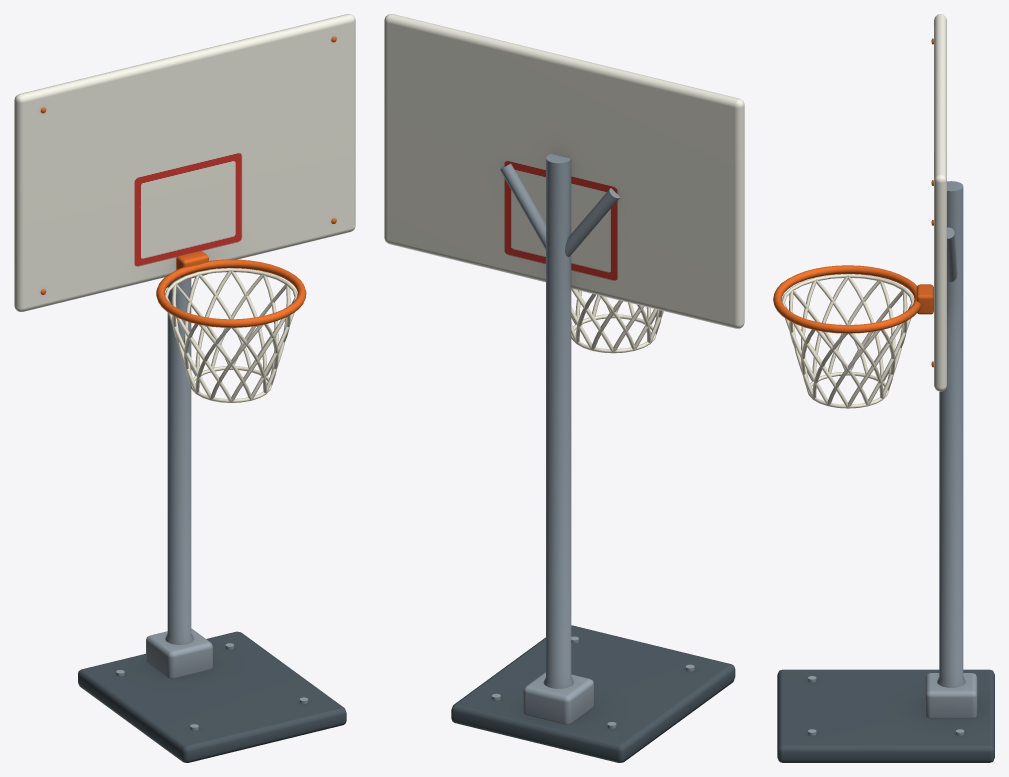
The model's file is basketball-hoop.fbx.
3 views of the same model, side by side, from view 1: azimuth 30°, elevation 25°; view 2: azimuth 150°, elevation 25°; view 3: azimuth 270°, elevation 25° (orthographic). The views are drawn at different scales.
Parts seen in each view (by area): view 1: basketball-hoop; view 2: basketball-hoop; view 3: basketball-hoop.
Part boxes in pixels (<box>): basketball-hoop: <box>14,14,355,762</box>; basketball-hoop: <box>384,14,744,762</box>; basketball-hoop: <box>773,14,994,762</box>.
Bounding box in the file's own units: 36000 × 64000 × 20400.
1 material, 1 textured.
